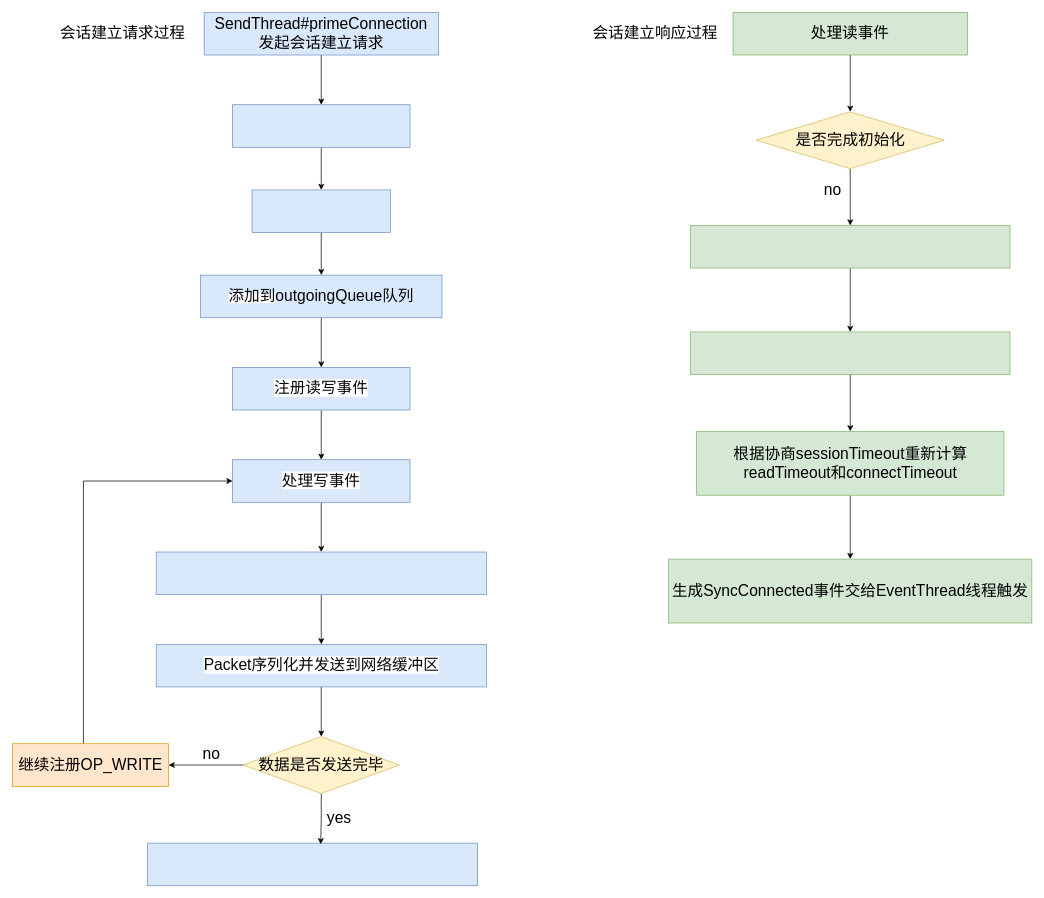
Image size: 1044x898. Some labels were removed from this diagram. The centre of each missing label's shape, as x and y in pixels:
ClientCnxnSocket#readConnectResult: point (850, 246)
从 outgoingQueue中取出建立会话的 Packet: point (320, 573)
从 outgoingQueue中移除 Packet: point (312, 864)
包装 Packet: point (320, 211)
反序列化构建ConnectResponse: point (850, 353)
构建ConnectRequest: point (321, 125)
